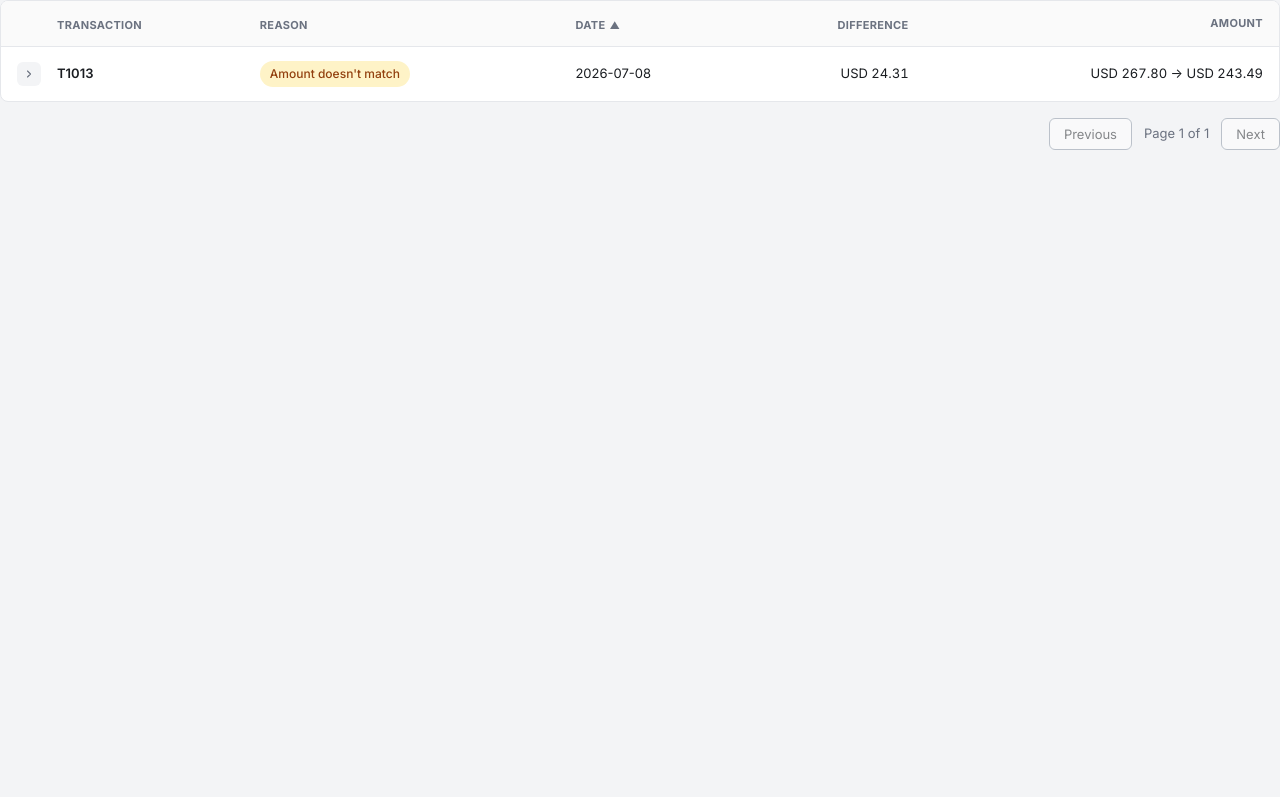
it: ExceptionsTable › expands a row inline to show its exception detail when the row toggle is activated
The width and height of the screenshot is (1280, 797).
Expected: the text "side-by-side comparison" is not shown
Click the button named "expand details for transaction t1013" at (29, 74), box [17, 62, 41, 86]
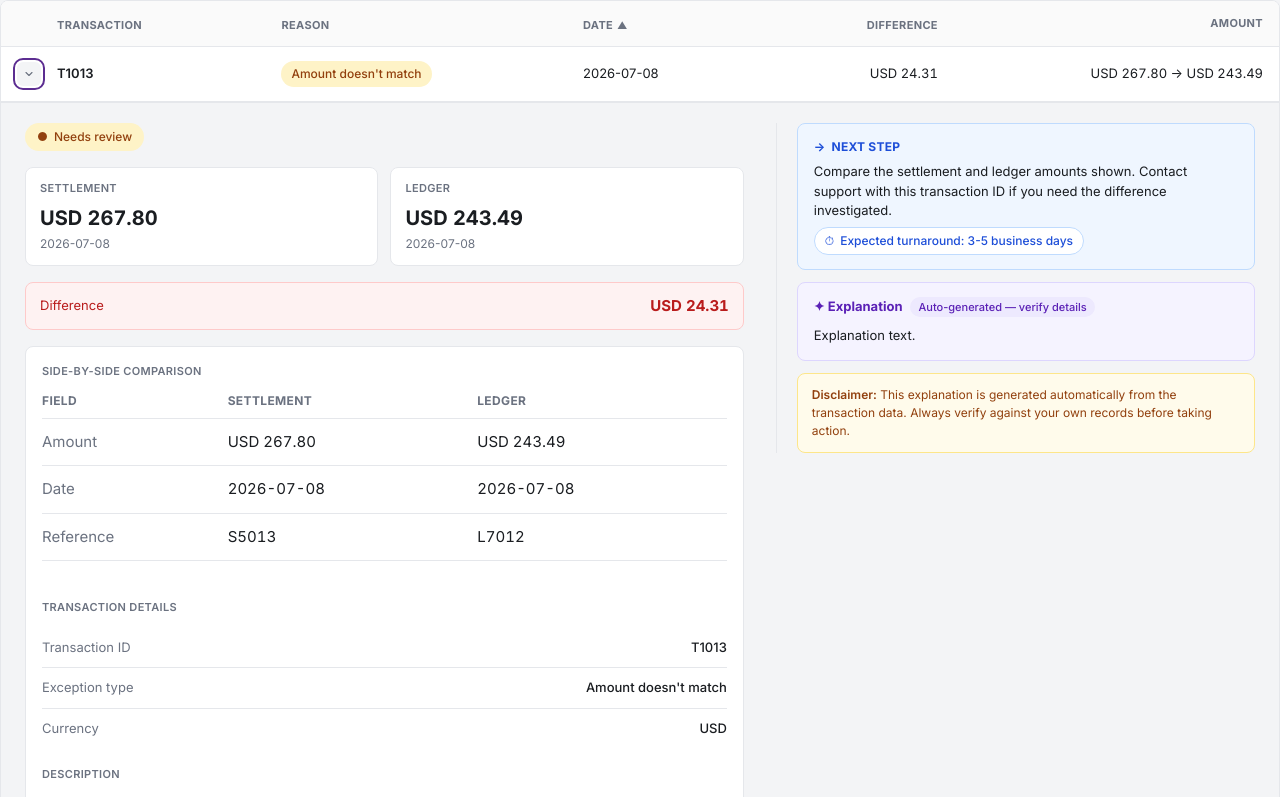
Expected: the heading "Side-by-side comparison" is shown, [42, 364, 202, 378]
Expected: the button named "collapse details for transaction t1013" is expanded, [17, 62, 41, 86]
